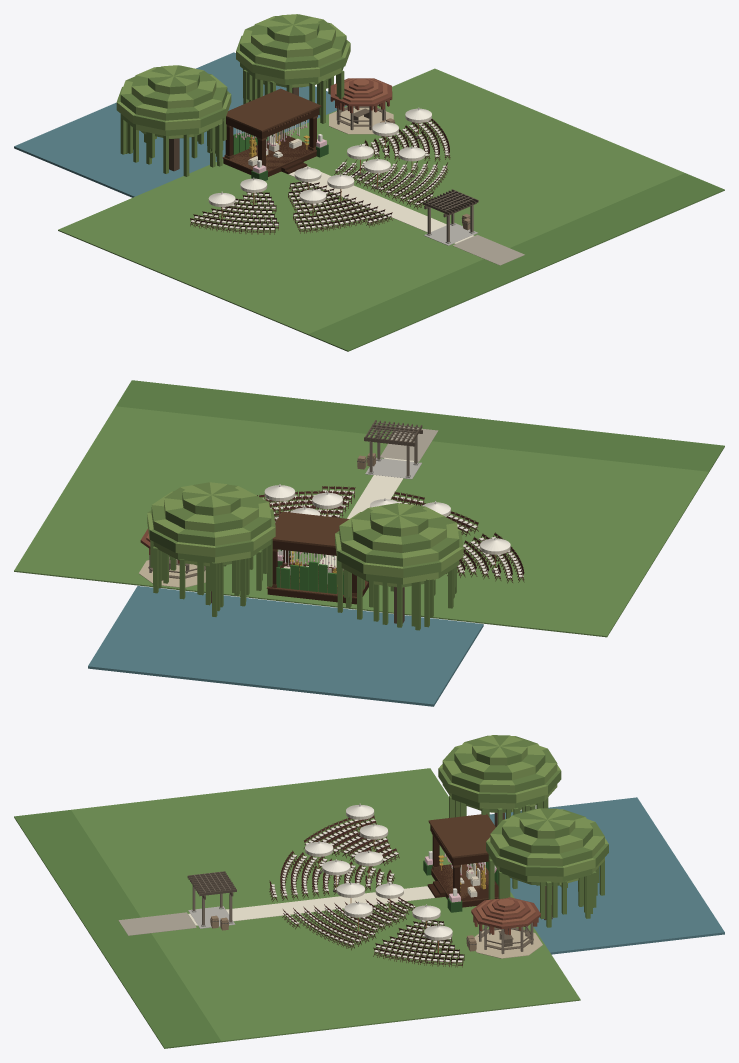
The model's file is venue-scene.glb.
3 views of the same model, one above another, from view 1: azimuth 30°, elevation 25°; view 2: azimuth 150°, elevation 25°; view 3: azimuth 270°, elevation 25° (orthographic). The views are drawn at different scales.
Visible parts, largest first — view 1: Willow Springs ceremony; view 2: Willow Springs ceremony; view 3: Willow Springs ceremony.
Part boxes in pixels (x1,y1,x2,y2): Willow Springs ceremony: [14, 14, 724, 351]; Willow Springs ceremony: [14, 380, 724, 706]; Willow Springs ceremony: [14, 735, 724, 1048].
Bounding box in the file's own units: 55.95 × 9.53 × 60.1.
